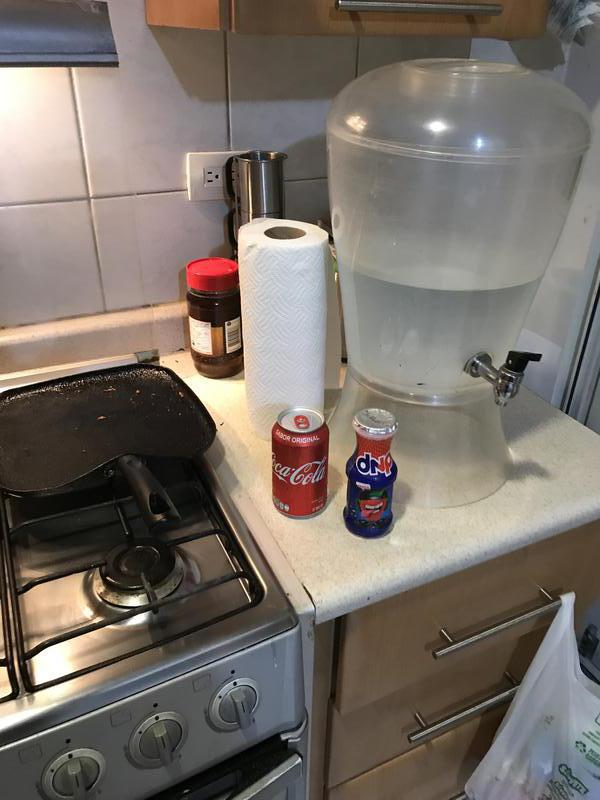coca_cola: (266, 408, 332, 519)
danup: (345, 409, 400, 539)
